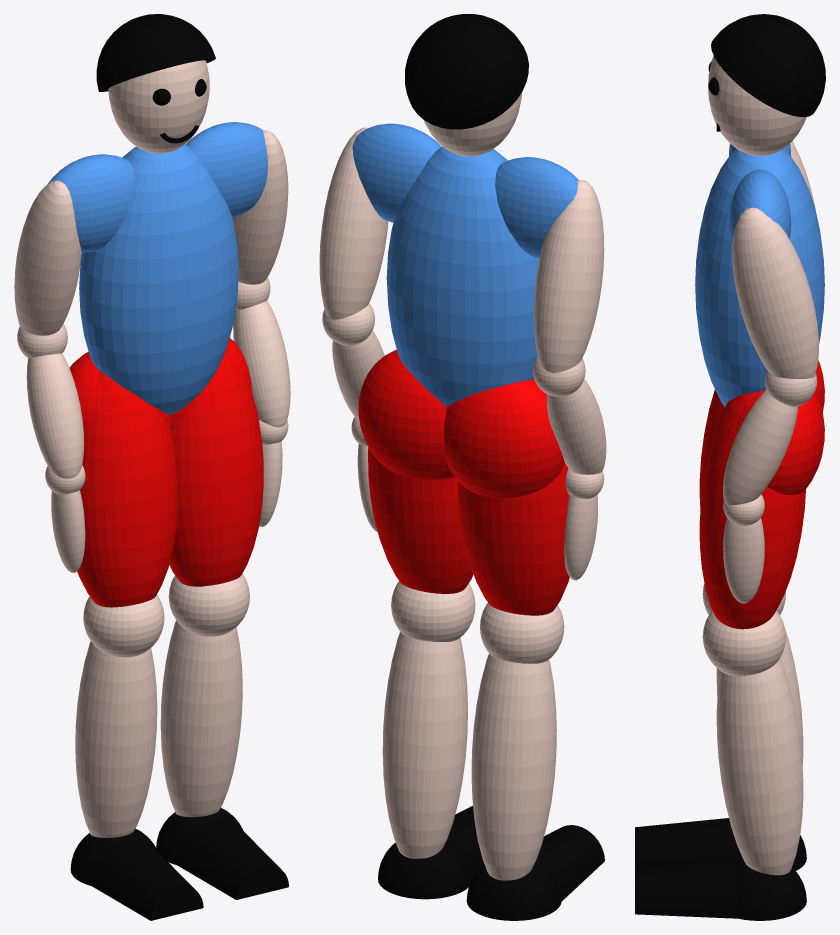
File: Ferfiallo.glb
The picture shows the model from 3 angles, left to right: view 1: azimuth 30°, elevation 25°; view 2: azimuth 150°, elevation 25°; view 3: azimuth 270°, elevation 25°; orthographic projection. The views are drawn at different scales.
Parts seen in each view (by area): view 1: VisualSceneNode1.015, VisualSceneNode1.017, VisualSceneNode1.018, VisualSceneNode1.023, VisualSceneNode1.022, VisualSceneNode1.027, VisualSceneNode1.016, VisualSceneNode1.032, VisualSceneNode1.026, VisualSceneNode1.024, VisualSceneNode1.029, VisualSceneNode1.019 (+14 smaller); view 2: VisualSceneNode1.015, VisualSceneNode1.022, VisualSceneNode1.023, VisualSceneNode1.017, VisualSceneNode1.032, VisualSceneNode1.043, VisualSceneNode1.027, VisualSceneNode1.018, VisualSceneNode1.042, VisualSceneNode1.034, VisualSceneNode1.019, VisualSceneNode1.031 (+14 smaller); view 3: VisualSceneNode1.023, VisualSceneNode1.015, VisualSceneNode1.034, VisualSceneNode1.018, VisualSceneNode1.032, VisualSceneNode1.024, VisualSceneNode1.036, VisualSceneNode1.016, VisualSceneNode1.026, VisualSceneNode1.021, VisualSceneNode1.042, VisualSceneNode1.014 (+6 smaller).
Boxes of the visible parts, bbox=[...] form: VisualSceneNode1.015: bbox=[79, 144, 238, 414]; VisualSceneNode1.017: bbox=[77, 369, 177, 607]; VisualSceneNode1.018: bbox=[169, 346, 263, 586]; VisualSceneNode1.023: bbox=[160, 620, 242, 817]; VisualSceneNode1.022: bbox=[75, 641, 157, 837]; VisualSceneNode1.027: bbox=[14, 180, 81, 335]; VisualSceneNode1.016: bbox=[108, 60, 209, 153]; VisualSceneNode1.032: bbox=[96, 14, 215, 91]; VisualSceneNode1.026: bbox=[91, 840, 203, 920]; VisualSceneNode1.024: bbox=[177, 819, 288, 899]; VisualSceneNode1.029: bbox=[26, 353, 84, 478]; VisualSceneNode1.019: bbox=[47, 154, 134, 252]; VisualSceneNode1.015: bbox=[386, 146, 539, 406]; VisualSceneNode1.022: bbox=[471, 653, 556, 880]; VisualSceneNode1.023: bbox=[382, 631, 467, 858]; VisualSceneNode1.017: bbox=[457, 463, 569, 615]; VisualSceneNode1.032: bbox=[405, 14, 528, 129]; VisualSceneNode1.043: bbox=[444, 379, 564, 497]; VisualSceneNode1.027: bbox=[534, 180, 604, 372]; VisualSceneNode1.018: bbox=[368, 447, 473, 593]; VisualSceneNode1.042: bbox=[358, 350, 454, 480]; VisualSceneNode1.034: bbox=[319, 127, 388, 319]; VisualSceneNode1.019: bbox=[495, 157, 578, 258]; VisualSceneNode1.031: bbox=[352, 123, 441, 222]; VisualSceneNode1.023: bbox=[716, 658, 803, 875]; VisualSceneNode1.015: bbox=[695, 149, 824, 406]; VisualSceneNode1.034: bbox=[732, 207, 818, 378]; VisualSceneNode1.018: bbox=[699, 392, 805, 629]; VisualSceneNode1.032: bbox=[711, 14, 825, 117]; VisualSceneNode1.024: bbox=[635, 859, 738, 918]; VisualSceneNode1.036: bbox=[723, 389, 798, 505]; VisualSceneNode1.016: bbox=[708, 56, 806, 155]; VisualSceneNode1.026: bbox=[635, 818, 738, 869]; VisualSceneNode1.021: bbox=[702, 610, 785, 676]; VisualSceneNode1.042: bbox=[736, 389, 824, 494]; VisualSceneNode1.014: bbox=[738, 858, 806, 920].
Size of the model in its own units: 0.5891 by 1.82 by 0.3666.
